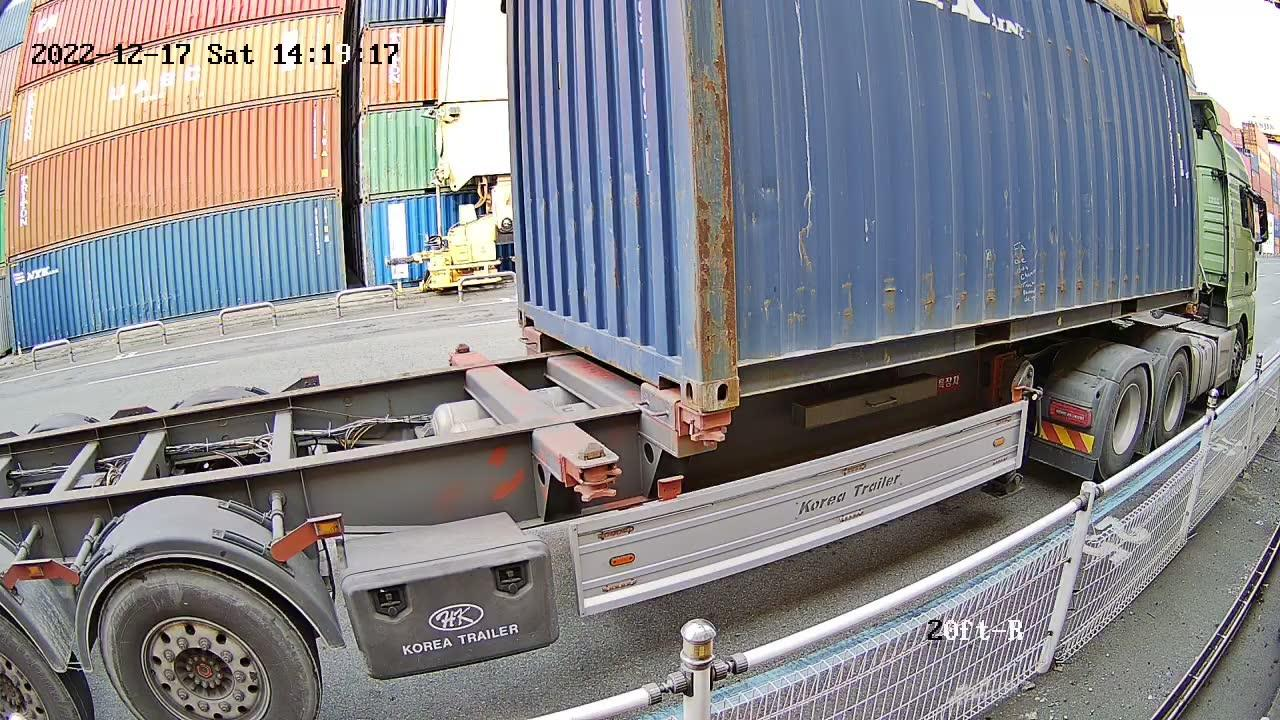Chassis: (520, 333, 676, 451)
Cone: (680, 410, 736, 450)
Hole_L: (702, 345, 771, 409), (515, 291, 552, 338)
Hole_R: (653, 343, 701, 406)
Tire: (101, 575, 311, 715), (1097, 367, 1149, 475), (1156, 353, 1193, 442), (1178, 268, 1201, 305)
